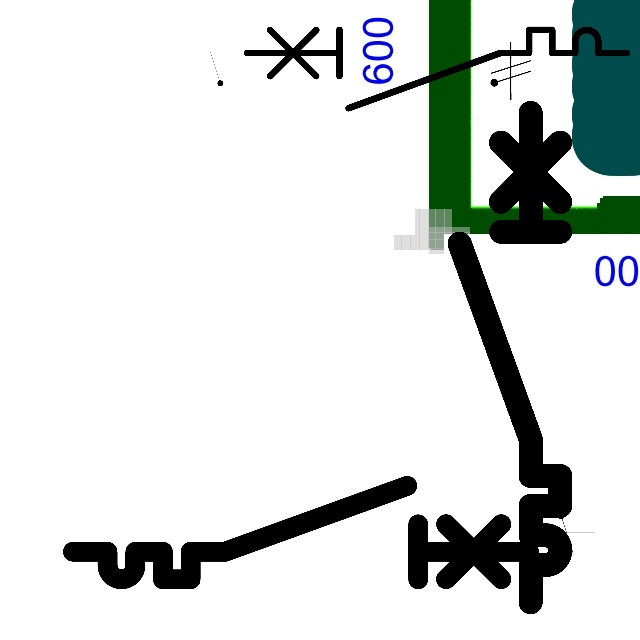interruptor_termomagnetico: (447, 100, 573, 615), (61, 474, 540, 591), (237, 20, 637, 118)
